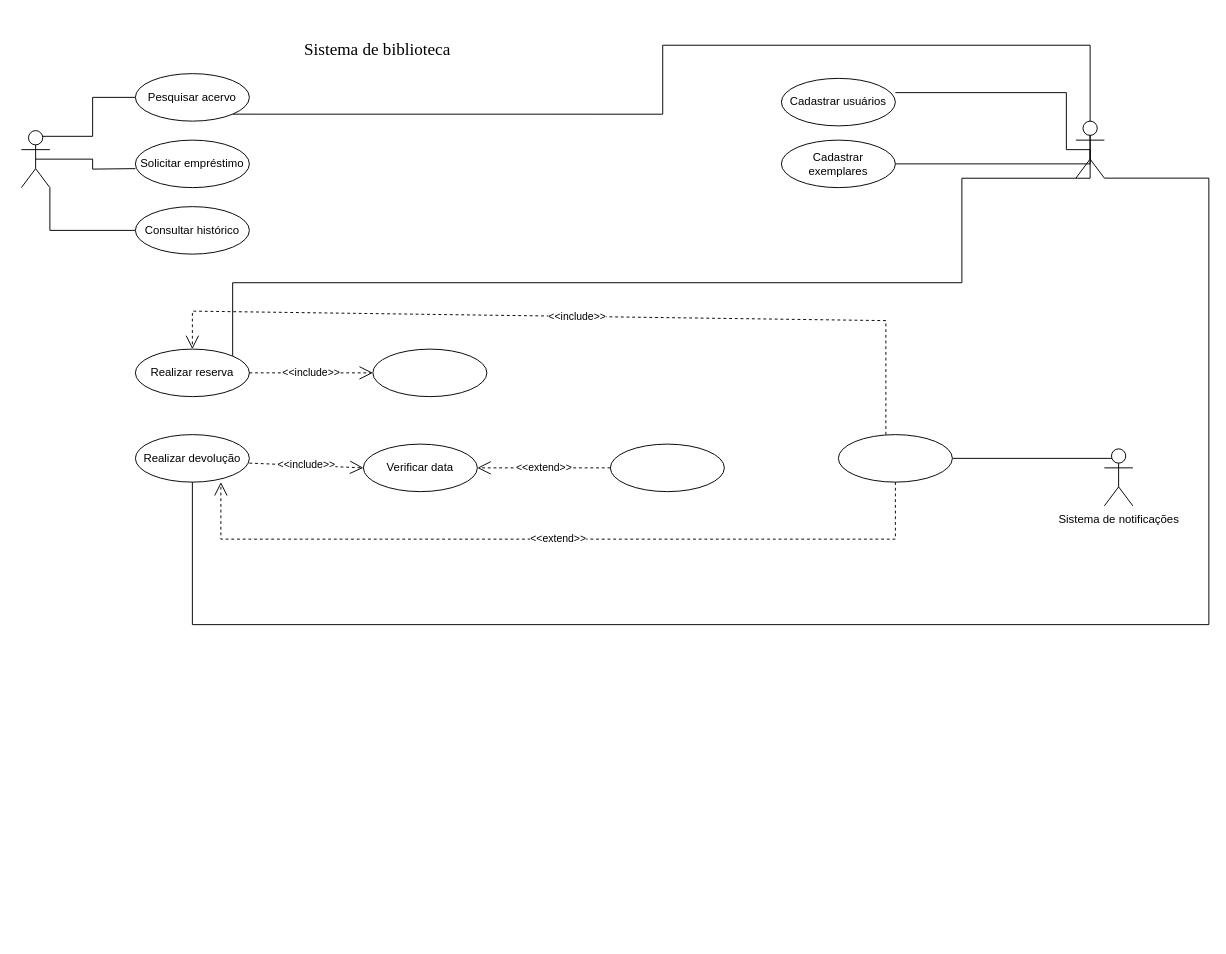
Image size: 1226x954. Some labels were removed from this diagram. The box of each missing label's shape, as (x1, y1, x2, y2) in pixels:
Aplicar multa: (609, 443, 724, 492)
Bibliotecário: (1075, 120, 1104, 178)
Enviar notificação: (837, 434, 952, 482)
Usuário: (20, 130, 50, 188)
Verificar disponibilidade: (372, 348, 487, 397)
